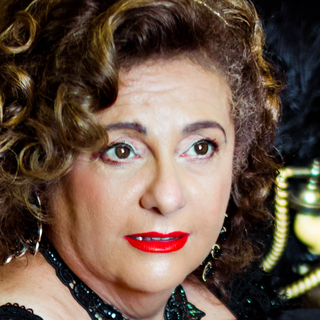eye: (174, 133, 225, 162), (91, 139, 145, 165)
